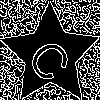C: (25, 30, 81, 87)
